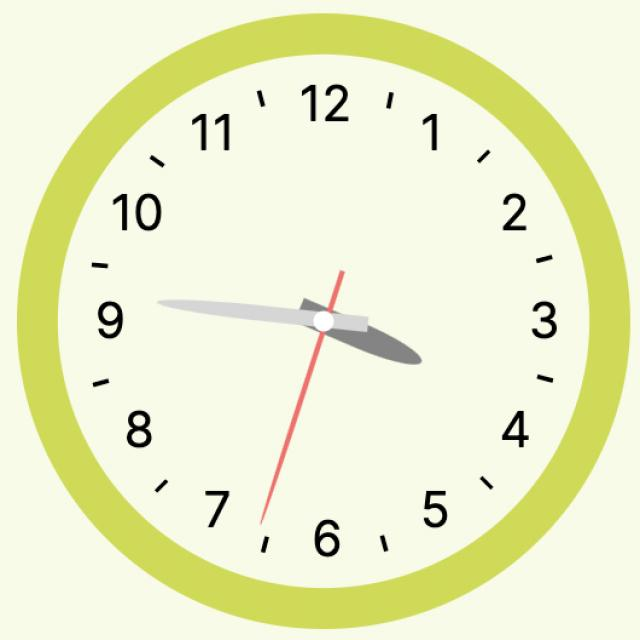clock: (28, 28, 596, 616)
